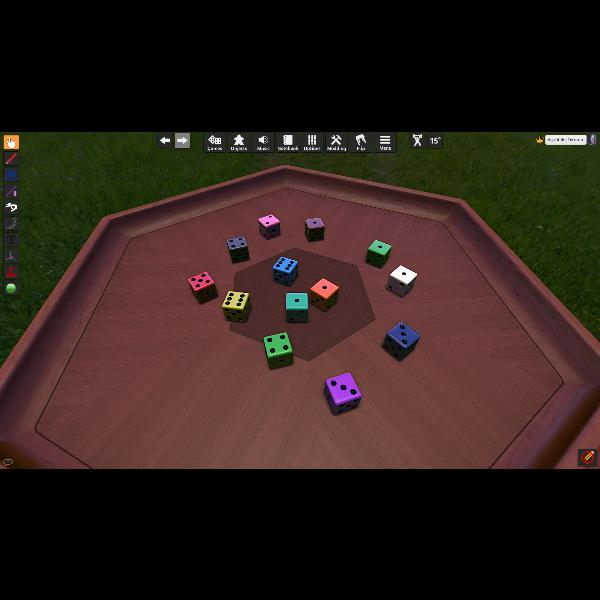d6: (324, 372, 358, 415), (383, 320, 419, 360), (264, 332, 294, 370), (386, 265, 416, 297), (188, 271, 216, 303), (222, 290, 250, 322), (310, 278, 336, 310), (272, 256, 298, 286), (366, 240, 390, 268), (286, 292, 308, 322), (227, 236, 249, 264), (258, 213, 280, 239), (303, 216, 322, 241)
